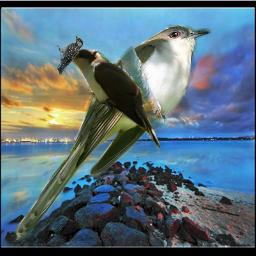Cuckoo: (12, 23, 211, 246), (58, 49, 160, 150)
Woodpecker: (57, 33, 83, 75)
